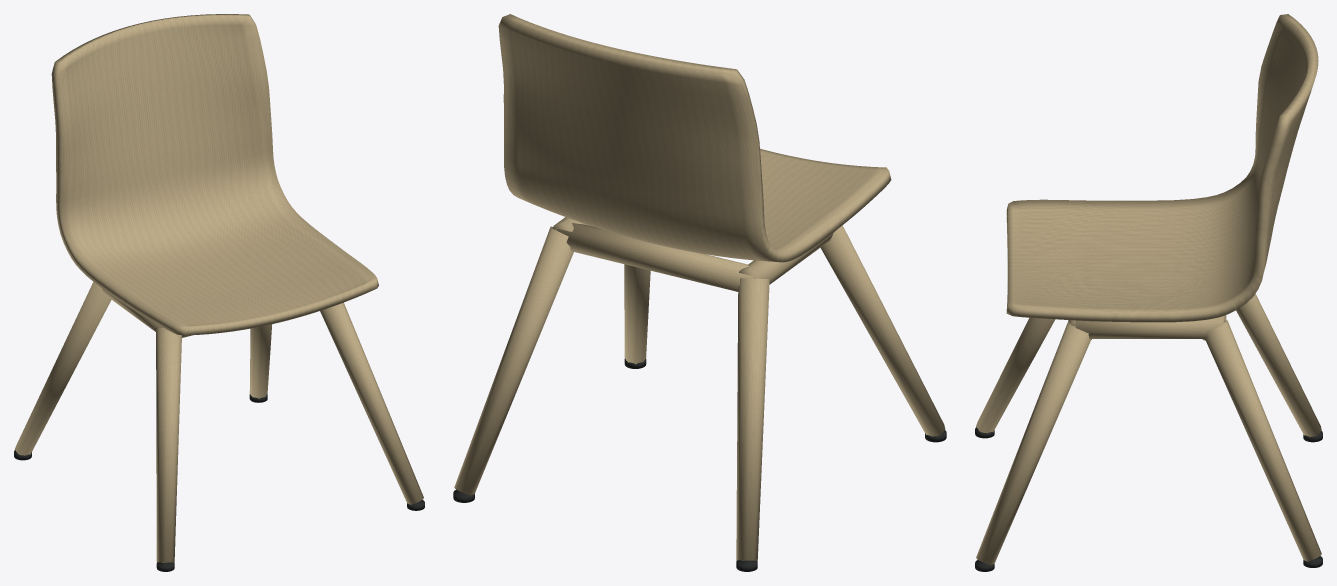
File: lod1_source.glb
The picture shows the model from 3 angles, left to right: view 1: azimuth 30°, elevation 25°; view 2: azimuth 150°, elevation 25°; view 3: azimuth 270°, elevation 25°; orthographic projection. The views are drawn at different scales.
Parts seen in each view (by area): view 1: Pale continuous scooped plywood seat and back, Pale front splayed leg -1, Pale front splayed leg 1, Pale rear splayed leg -1, Pale rear splayed leg 1; view 2: Pale continuous scooped plywood seat and back, Pale rear splayed leg -1, Pale rear splayed leg 1, Pale front splayed leg -1, Underseat rear wood crosspiece, Pale front splayed leg 1, Underseat wood side stretcher -1; view 3: Pale continuous scooped plywood seat and back, Pale front splayed leg 1, Pale rear splayed leg 1, Pale rear splayed leg -1, Pale front splayed leg -1, Underseat wood side stretcher 1.
Part boxes in pixels (<box>): Pale continuous scooped plywood seat and back: <box>51,14,378,335</box>; Pale front splayed leg -1: <box>156,328,181,562</box>; Pale front splayed leg 1: <box>320,302,423,504</box>; Pale rear splayed leg -1: <box>14,282,111,455</box>; Pale rear splayed leg 1: <box>249,324,272,398</box>; Pale continuous scooped plywood seat and back: <box>498,14,891,262</box>; Pale rear splayed leg -1: <box>736,278,769,560</box>; Pale rear splayed leg 1: <box>454,226,573,495</box>; Pale front splayed leg -1: <box>820,225,945,436</box>; Underseat rear wood crosspiece: <box>557,220,758,291</box>; Pale front splayed leg 1: <box>624,264,650,364</box>; Underseat wood side stretcher -1: <box>739,231,834,284</box>; Pale continuous scooped plywood seat and back: <box>1006,14,1318,322</box>; Pale front splayed leg 1: <box>976,322,1091,565</box>; Pale rear splayed leg 1: <box>1205,320,1321,561</box>; Pale rear splayed leg -1: <box>1236,294,1321,436</box>; Pale front splayed leg -1: <box>976,317,1055,433</box>; Underseat wood side stretcher 1: <box>1075,316,1222,338</box>.
Size of the model in its own units: 0.584 by 0.8492 by 0.605.
Materials: 2 (1 with a texture image).
